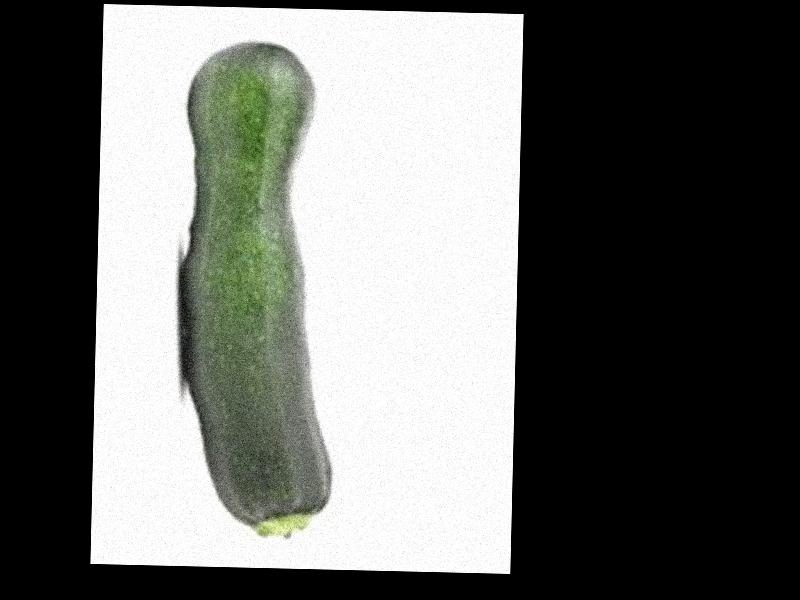Cucumber: (175, 40, 343, 540)
